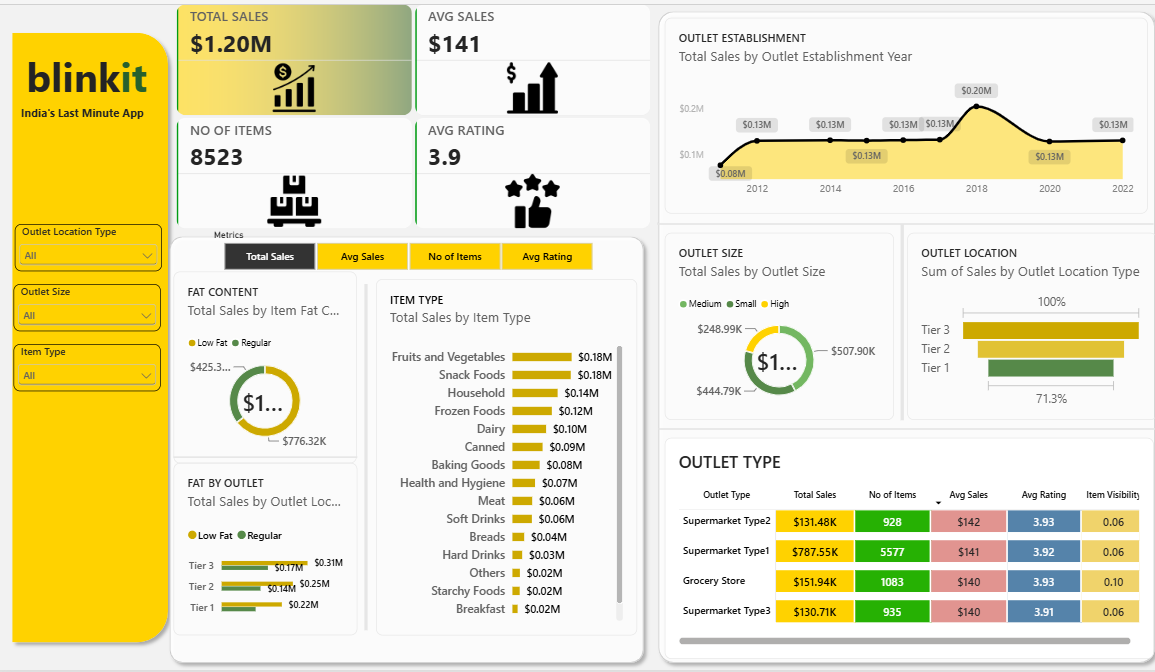

What the dashboard file says about the page in this screenshot:
{"tool":"powerbi","page":{"name":"Page 1","canvas":[1400,800],"ordinal":0},"visuals":[{"type":"shape","box":[10.5,25.5,205,750],"z":0},{"type":"textbox","box":[264.2,25.5,348.2,94.6],"z":1000},{"type":"textbox","box":[322.7,453.3,150.1,70.5],"z":2000},{"type":"textbox","box":[264.2,697.9,348.2,78],"z":3000},{"type":"textbox","box":[264,524,348,252],"z":4000},{"type":"textbox","box":[264.2,523.8,298.7,76.5],"z":5000},{"type":"textbox","box":[264.2,600.3,348.2,72],"z":6000},{"type":"textbox","box":[264.2,600.3,348.2,72],"z":7000},{"type":"textbox","box":[30,54,157.6,66],"z":8000},{"type":"textbox","box":[264.2,135.1,348.2,640.9],"z":9000},{"type":"textbox","box":[30,120.1,693.4,130.6],"z":10000},{"type":"cardVisual","fields":{"Data":["BlinkIT Grocery Data.Total Sales","BlinkIT Grocery Data.Avg Sales","BlinkIT Grocery Data.No of Items","BlinkIT Grocery Data.Avg Rating"]},"box":[216.1,0,570.3,270.2],"z":11000},{"type":"shape","box":[199.6,270.2,586.8,529.8],"z":12000},{"type":"donutChart","title":"FAT CONTENT","fields":{"Category":["BlinkIT Grocery Data.Item Fat Content"],"Y":["BlinkIT Grocery Data.Total Sales"]},"box":[213.1,321.2,220,230],"z":13000},{"type":"slicer","fields":{"Values":["Metrics.Metrics"]},"box":[253.6,270.2,481.8,51],"z":14000},{"type":"clusteredBarChart","title":"FAT BY OUTLET","fields":{"Category":["BlinkIT Grocery Data.Outlet Location Type"],"Series":["BlinkIT Grocery Data.Item Fat Content"],"Y":["BlinkIT Grocery Data.Total Sales"]},"box":[213.1,550.8,220.6,207.1],"z":15000},{"type":"shape","box":[213.1,537.3,220.6,13.5],"z":16000},{"type":"shape","box":[794,256.6,595.8,13.5],"z":17000},{"type":"shape","box":[438.3,336.2,12,415.7],"z":18000},{"type":"barChart","title":"ITEM TYPE","fields":{"Category":["BlinkIT Grocery Data.Item Type"],"Y":["BlinkIT Grocery Data.Total Sales"]},"box":[456.3,330.2,313.7,427.7],"z":19000},{"type":"shape","box":[786.5,0,613.9,800],"z":20000},{"type":"lineChart","title":"OUTLET ESTABLISHMENT","fields":{"Category":["BlinkIT Grocery Data.Outlet Establishment Year"],"Y":["BlinkIT Grocery Data.Total Sales"]},"box":[803,16.5,580,235],"z":21000},{"type":"shape","box":[794,253.6,595.8,21],"z":22000},{"type":"donutChart","title":"OUTLET SIZE","fields":{"Category":["BlinkIT Grocery Data.Outlet Size","BlinkIT Grocery Data.Item Fat Content"],"Y":["BlinkIT Grocery Data.Total Sales"]},"box":[803,274.7,275,225],"z":23000},{"type":"shape","box":[1082.1,264.2,12,235.6],"z":24000},{"type":"funnel","title":"OUTLET LOCATION","fields":{"Category":["BlinkIT Grocery Data.Outlet Location Type"],"Y":["Sum(BlinkIT Grocery Data.Sales)"]},"box":[1094.1,274.7,300.2,225.1],"z":25000},{"type":"shape","box":[795.5,499.8,595.8,21],"z":26000},{"type":"pivotTable","title":"OUTLET TYPE","fields":{"Rows":["BlinkIT Grocery Data.Outlet Type"],"Values":["BlinkIT Grocery Data.Total Sales","BlinkIT Grocery Data.No of Items","BlinkIT Grocery Data.Avg Sales","BlinkIT Grocery Data.Avg Rating","Avg(BlinkIT Grocery Data.Item Visibility)"]},"box":[803,520.8,586.8,265.7],"z":27000},{"type":"slicer","fields":{"Values":["BlinkIT Grocery Data.Outlet Location Type"]},"box":[22.5,264.2,177.1,57],"z":28000},{"type":"slicer","fields":{"Values":["BlinkIT Grocery Data.Outlet Size"]},"box":[21,336.2,177.1,57],"z":29000},{"type":"slicer","fields":{"Values":["BlinkIT Grocery Data.Item Type"]},"box":[21,408.2,177.1,57],"z":30000}]}

Visuals, with their boxes in screenshot pixels (x1, y1, x2, y2), scaled from the page's 1400x800 canvas onto the 1155x672 screenshot:
shape: (9, 21, 178, 651)
textbox: (218, 21, 505, 101)
textbox: (266, 381, 390, 440)
textbox: (218, 586, 505, 652)
textbox: (218, 440, 505, 652)
textbox: (218, 440, 464, 504)
textbox: (218, 504, 505, 565)
textbox: (218, 504, 505, 565)
textbox: (25, 45, 155, 101)
textbox: (218, 113, 505, 652)
textbox: (25, 101, 597, 211)
cardVisual - BlinkIT Grocery Data.Total Sales x BlinkIT Grocery Data.Avg Sales: (178, 0, 649, 227)
shape: (165, 227, 649, 671)
"FAT CONTENT" donutChart: (176, 270, 357, 463)
slicer - Metrics.Metrics: (209, 227, 607, 270)
"FAT BY OUTLET" clusteredBarChart: (176, 463, 358, 637)
shape: (176, 451, 358, 463)
shape: (655, 216, 1147, 227)
shape: (362, 282, 371, 632)
"ITEM TYPE" barChart: (376, 277, 635, 637)
shape: (649, 0, 1154, 671)
"OUTLET ESTABLISHMENT" lineChart: (662, 14, 1141, 211)
shape: (655, 213, 1147, 231)
"OUTLET SIZE" donutChart: (662, 231, 889, 420)
shape: (893, 222, 903, 420)
"OUTLET LOCATION" funnel: (903, 231, 1150, 420)
shape: (656, 420, 1148, 437)
"OUTLET TYPE" pivotTable: (662, 437, 1147, 661)
slicer - BlinkIT Grocery Data.Outlet Location Type: (19, 222, 165, 270)
slicer - BlinkIT Grocery Data.Outlet Size: (17, 282, 163, 330)
slicer - BlinkIT Grocery Data.Item Type: (17, 343, 163, 391)
